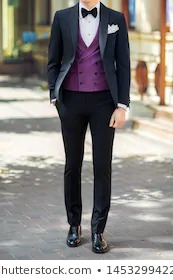F_dress pants: (57, 87, 117, 237)
